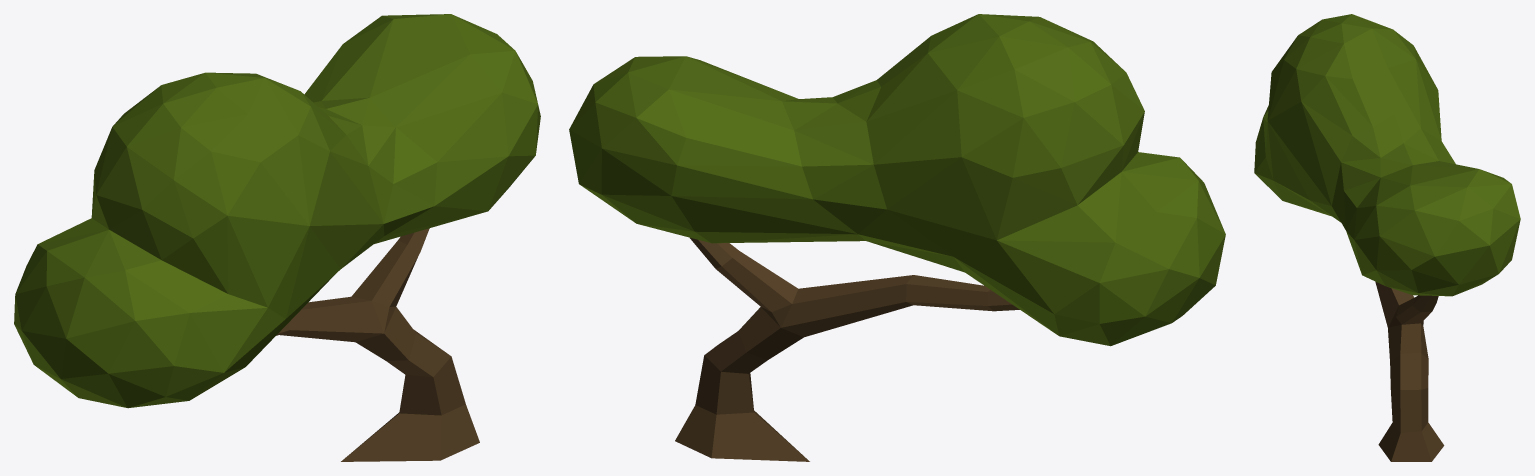
File: TreesAndBushes_087.fbx
3 views of the same model, side by side, from view 1: azimuth 30°, elevation 25°; view 2: azimuth 150°, elevation 25°; view 3: azimuth 270°, elevation 25° (orthographic). The views are drawn at different scales.
Parts seen in each view (by area): view 1: TreesAndBushes_087; view 2: TreesAndBushes_087; view 3: TreesAndBushes_087.
Boxes of the visible parts, <box> form: TreesAndBushes_087: <box>14,14,540,461</box>; TreesAndBushes_087: <box>569,14,1225,461</box>; TreesAndBushes_087: <box>1254,14,1520,461</box>.
Size of the model in its own units: 142 by 109 by 79.01.
